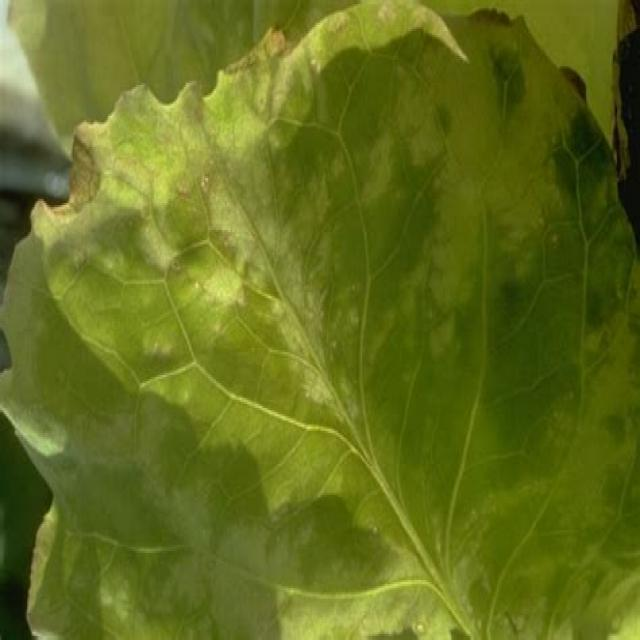Lettuce Mosaic Virus: (37, 39, 613, 624)
